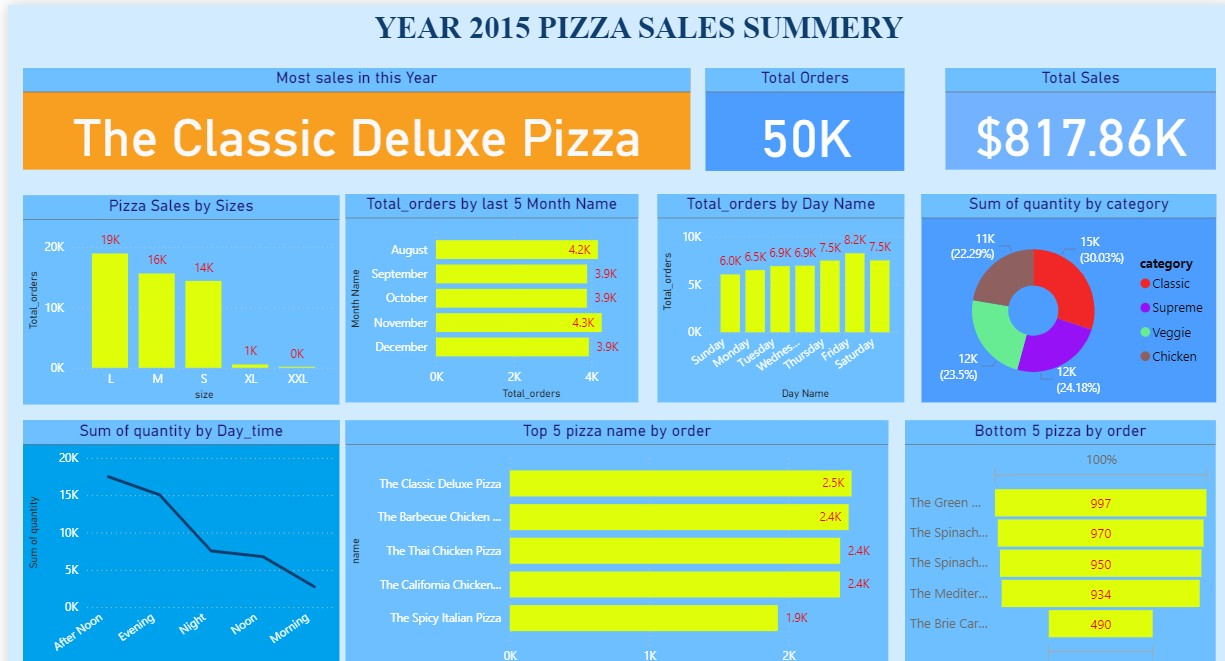

The dashboard page shown, as its layout file describes it:
{"tool":"powerbi","page":{"name":"Page 1","canvas":[1280,720],"ordinal":0},"visuals":[{"type":"card","title":"Total Orders","fields":{"Values":["orders_details.Total_orders"]},"box":[727.5,65,207.5,107.5],"z":0},{"type":"card","title":"Most sales in this Year ","fields":{"Values":["orders_details.Most Ordered Product"]},"box":[16,66,696,106],"z":1000},{"type":"barChart","title":"Total_orders by last 5 Month Name","fields":{"Category":["orders.Month Name"],"Y":["orders_details.Total_orders"]},"box":[352.5,197.5,305,217.5],"z":2000},{"type":"clusteredColumnChart","fields":{"Y":["orders_details.Total_orders"],"Category":["orders.Day Name"]},"box":[677.5,197.5,257.5,217.5],"z":3000},{"type":"lineChart","fields":{"Category":["orders.Day_time"],"Y":["Sum(orders_details.quantity)"]},"box":[16,434,330,272],"z":4000},{"type":"card","title":"Total Sales","fields":{"Values":["Sum(orders_details.Sales)"]},"box":[978,66,282,106],"z":5000},{"type":"donutChart","fields":{"Y":["Sum(orders_details.quantity)"],"Category":["pizza_types.category"]},"box":[952.5,197.5,307.5,217.5],"z":6000},{"type":"columnChart","title":"Pizza Sales by Sizes","fields":{"Category":["pizza_details.size"],"Y":["orders_details.Total_orders"]},"box":[16,198,330,218],"z":7000},{"type":"textbox","box":[377,0,602.2,65.7],"z":8000},{"type":"barChart","title":"Top 5 pizza name by order","fields":{"Y":["orders_details.Total_orders"],"Category":["pizza_types.name"]},"box":[352,434,566,272],"z":9000},{"type":"funnel","title":"Bottom 5 pizza by order","fields":{"Category":["pizza_types.name"],"Y":["orders_details.Total_orders"]},"box":[936,434,324,272],"z":10000}]}

Visuals, with their boxes on the page's 1280x720 design canvas (x1, y1, x2, y2). These are canvas units, not pixel positions in the 1225x661 screenshot, which may show the page scaled, cropped or inside an application window:
"Total Orders" card: box(728, 65, 935, 172)
"Most sales in this Year " card: box(16, 66, 712, 172)
"Total_orders by last 5 Month Name" barChart: box(352, 198, 658, 415)
clusteredColumnChart - orders_details.Total_orders x orders.Day Name: box(678, 198, 935, 415)
lineChart - orders.Day_time x Sum(orders_details.quantity): box(16, 434, 346, 706)
"Total Sales" card: box(978, 66, 1260, 172)
donutChart - Sum(orders_details.quantity) x pizza_types.category: box(952, 198, 1260, 415)
"Pizza Sales by Sizes" columnChart: box(16, 198, 346, 416)
textbox: box(377, 0, 979, 66)
"Top 5 pizza name by order" barChart: box(352, 434, 918, 706)
"Bottom 5 pizza by order" funnel: box(936, 434, 1260, 706)
